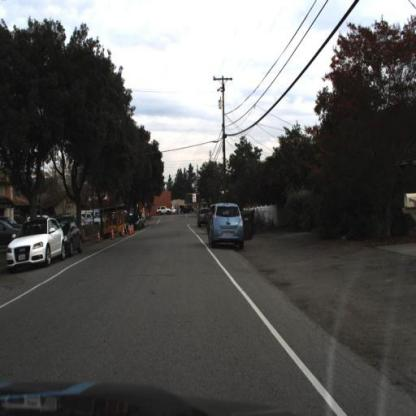car: (5, 216, 65, 275), (3, 214, 62, 272), (206, 203, 246, 252), (55, 218, 82, 258), (62, 219, 85, 256), (198, 207, 209, 226), (155, 207, 175, 217), (130, 216, 144, 230)
truck: (102, 214, 125, 237)
